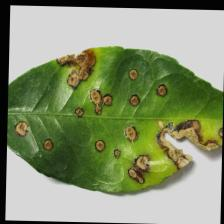canker: (13, 50, 224, 186)
